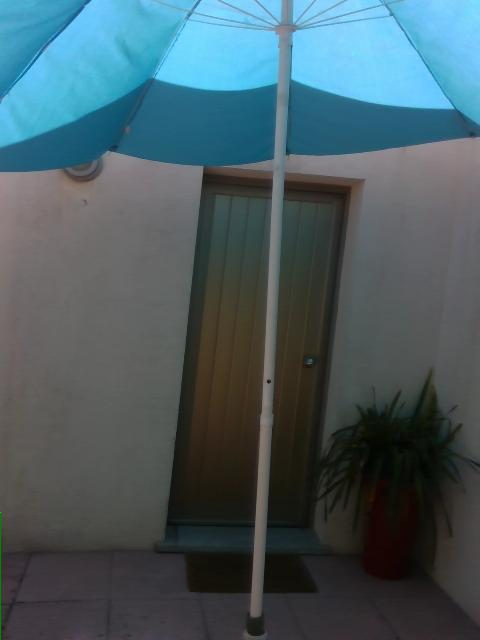closed_door: (165, 162, 364, 547)
